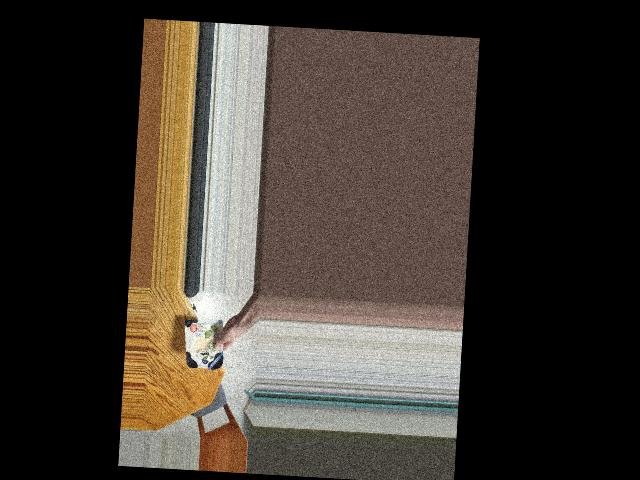cheese: (182, 309, 224, 378)
